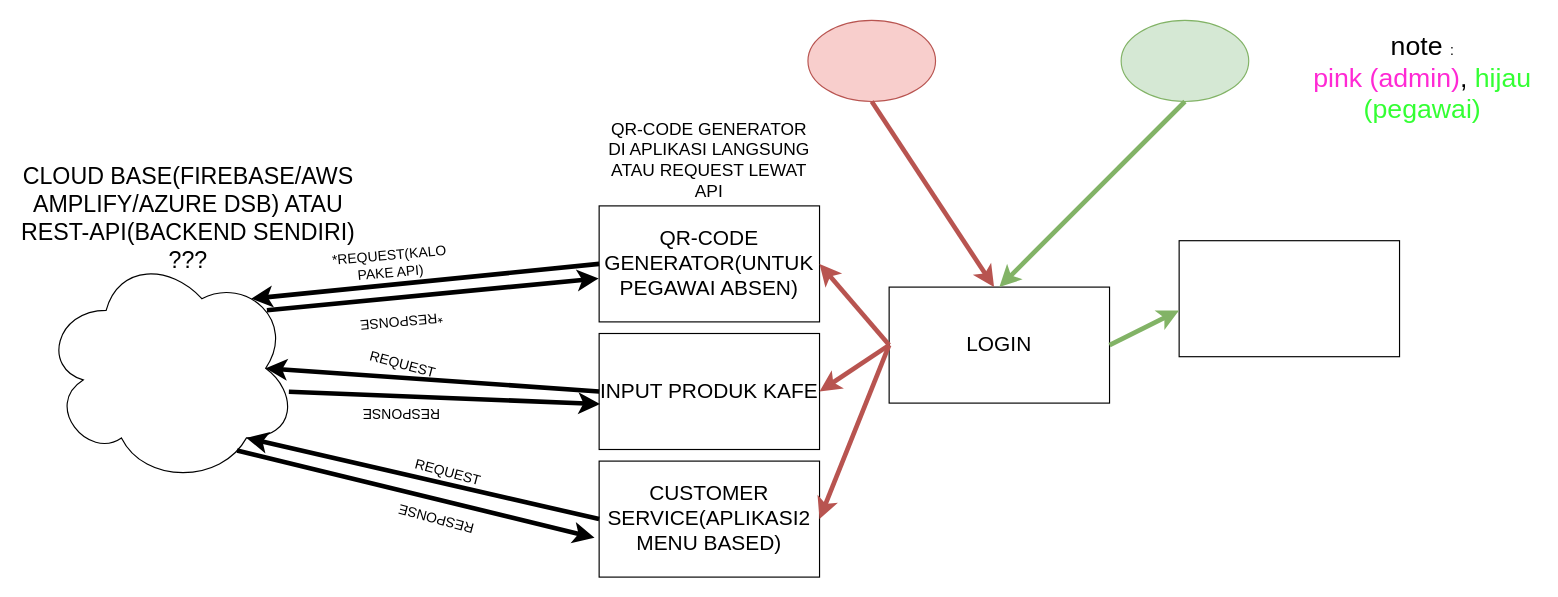
Some shapes in this 1558 by 597 pixel diagram are drawn without their labels. The shapes that lost their labels are listed below. From the top down, each one's centre as x and y in pixels, then its label:
At point 1289,298: "ABSEN PEGAWAI".
At point 169,367: "DATABASE".
